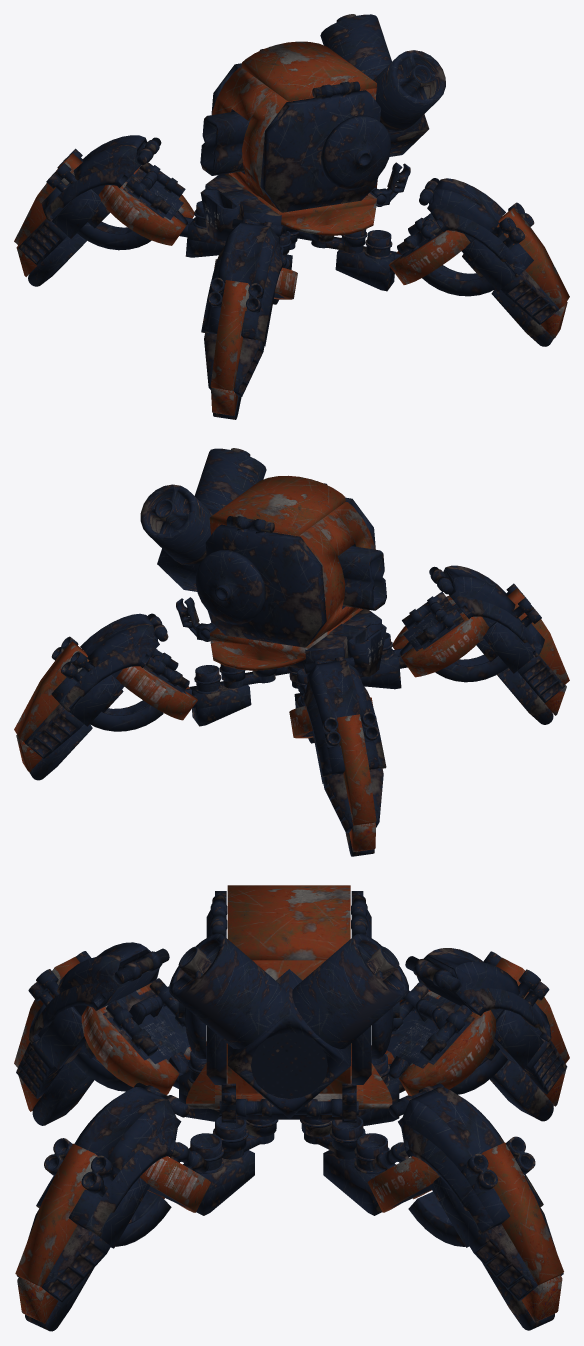
The picture shows the model from 3 angles, top to bottom: view 1: azimuth 30°, elevation 25°; view 2: azimuth 150°, elevation 25°; view 3: azimuth 270°, elevation 25°; orthographic projection. The views are drawn at different scales.
Parts seen in each view (by area): view 1: Cylinder051, lol004, lol003, lol006, Bone032, Cylinder054, Bone012, Cylinder058, Bone004; view 2: Cylinder051, lol005, lol006, lol003, Bone004, Cylinder056, Bone020, Cylinder053, Bone032; view 3: Cylinder051, lol004, lol005, lol006, lol003, Bone004, Bone032, Cylinder056, Cylinder054, Circle002, Bone020, Bone012 (+2 smaller).
Boxes of the visible parts, left/top/right/bottom form: Cylinder051: left=200, top=14, right=445, bottom=241; lol004: left=419, top=178, right=569, bottom=346; lol003: left=201, top=218, right=283, bottom=419; lol006: left=14, top=135, right=161, bottom=286; Bone032: left=99, top=162, right=194, bottom=245; Cylinder054: left=310, top=229, right=402, bottom=291; Bone012: left=389, top=213, right=470, bottom=284; Cylinder058: left=179, top=201, right=225, bottom=257; Bone004: left=214, top=255, right=297, bottom=299; Cylinder051: left=140, top=448, right=386, bottom=676; lol005: left=14, top=613, right=168, bottom=780; lol006: left=303, top=657, right=386, bottom=856; lol003: left=429, top=565, right=569, bottom=724; Bone004: left=392, top=591, right=489, bottom=677; Cylinder056: left=184, top=664, right=276, bottom=726; Bone020: left=116, top=649, right=197, bottom=720; Cylinder053: left=360, top=632, right=407, bottom=689; Bone032: left=289, top=693, right=373, bottom=738; Cylinder051: left=169, top=885, right=408, bottom=1122; lol004: left=15, top=1082, right=189, bottom=1331; lol005: left=389, top=1083, right=563, bottom=1330; lol006: left=405, top=948, right=569, bottom=1121; lol003: left=14, top=942, right=169, bottom=1125; Bone004: left=81, top=978, right=206, bottom=1094; Bone032: left=371, top=982, right=496, bottom=1095; Cylinder056: left=300, top=1116, right=395, bottom=1215; Cylinder054: left=183, top=1116, right=278, bottom=1215; Circle002: left=227, top=1013, right=327, bottom=1117; Bone020: left=367, top=1142, right=439, bottom=1212; Bone012: left=140, top=1142, right=210, bottom=1212.
Size of the model in its own units: 54.49 by 37.06 by 54.54.
Materials: 3 (3 with a texture image).
